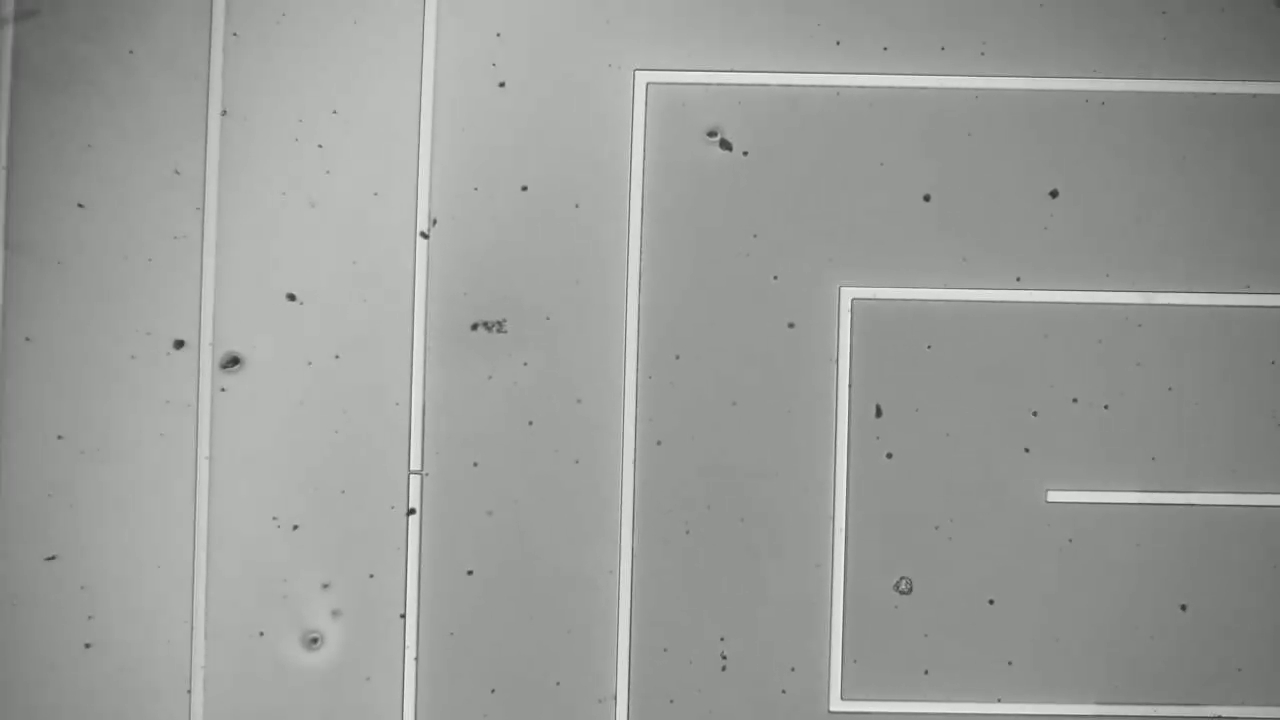open: (398, 457, 436, 487)
stains_enbedded: (407, 218, 439, 250), (399, 499, 429, 522)
